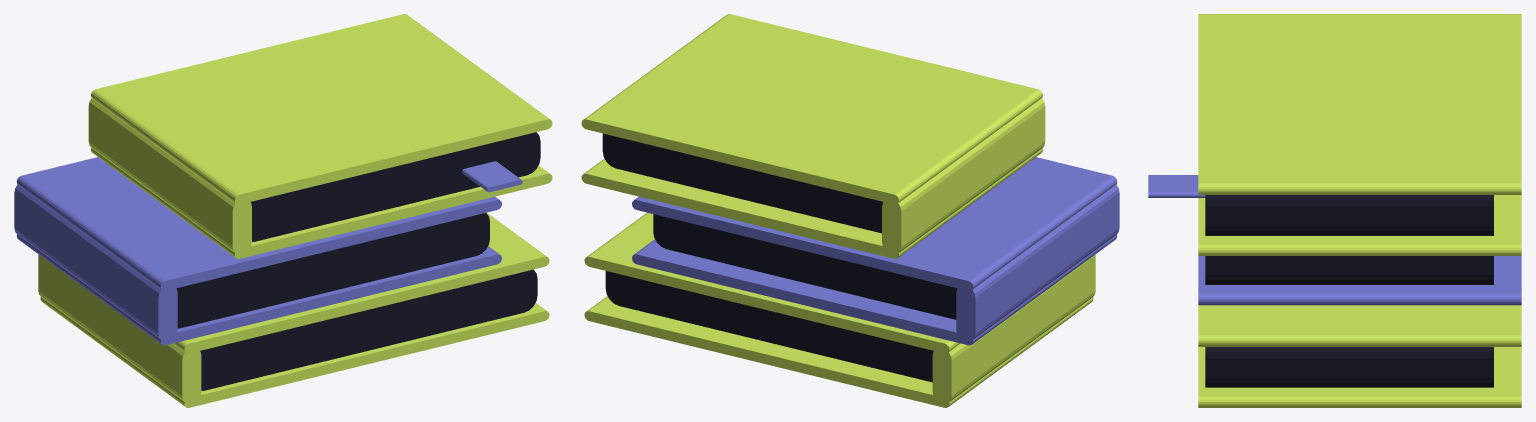
File: books.glb
The picture shows the model from 3 angles, left to right: view 1: azimuth 30°, elevation 25°; view 2: azimuth 150°, elevation 25°; view 3: azimuth 270°, elevation 25°; orthographic projection. The views are drawn at different scales.
Parts seen in each view (by area): view 1: cover 2 0.175, cover 1 0.175, pages 0, pages 1, pages 2, spine 2, spine 1, spine 0, cover 0 0.175, cover 0 0, cover 1 0, cover 2 0 (+1 smaller); view 2: cover 2 0.175, cover 1 0.175, pages 0, pages 1, pages 2, cover 0 0, spine 1, cover 1 0, spine 2, cover 2 0, spine 0, cover 0 0.175; view 3: cover 2 0.175, cover 0 0.175, pages 0, pages 2, pages 1, cover 0 0, cover 2 0, cover 1 0, ribbon.
Part boxes in pixels (x1,y1,x2,y2): cover 2 0.175: (91, 14, 552, 204); cover 1 0.175: (16, 157, 501, 290); pages 0: (200, 269, 537, 390); pages 1: (176, 213, 489, 328); pages 2: (251, 132, 540, 241); spine 2: (88, 98, 251, 254); spine 1: (14, 184, 177, 341); spine 0: (38, 254, 201, 403); cover 0 0.175: (173, 212, 549, 353); cover 0 0: (40, 297, 549, 407); cover 1 0: (16, 234, 501, 345); cover 2 0: (91, 148, 552, 258); cover 2 0.175: (581, 14, 1042, 204); cover 1 0.175: (632, 157, 1117, 290); pages 0: (605, 271, 933, 382); pages 1: (653, 214, 957, 319); pages 2: (602, 133, 882, 233); cover 0 0: (584, 296, 1093, 407); spine 1: (956, 184, 1119, 341); cover 1 0: (632, 234, 1117, 345); spine 2: (882, 98, 1045, 254); cover 2 0: (581, 148, 1042, 258); spine 0: (932, 254, 1095, 403); cover 0 0.175: (584, 212, 960, 353); cover 2 0.175: (1198, 14, 1521, 194); cover 0 0.175: (1198, 305, 1521, 346); pages 0: (1205, 347, 1493, 387); pages 2: (1205, 195, 1493, 235); pages 1: (1205, 256, 1493, 284); cover 0 0: (1198, 347, 1521, 407); cover 2 0: (1198, 195, 1521, 255); cover 1 0: (1198, 256, 1521, 305); ribbon: (1148, 175, 1205, 197).
Size of the model in its own units: 1.33 by 0.647 by 0.97.
